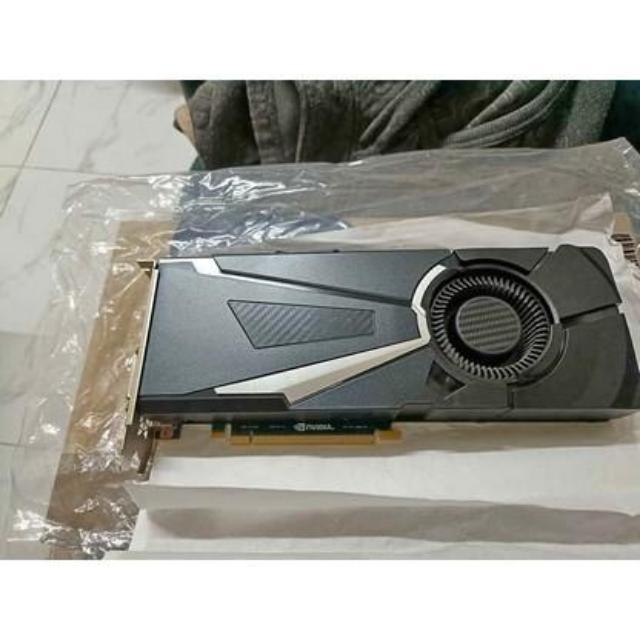GPU: (132, 243, 640, 443)
